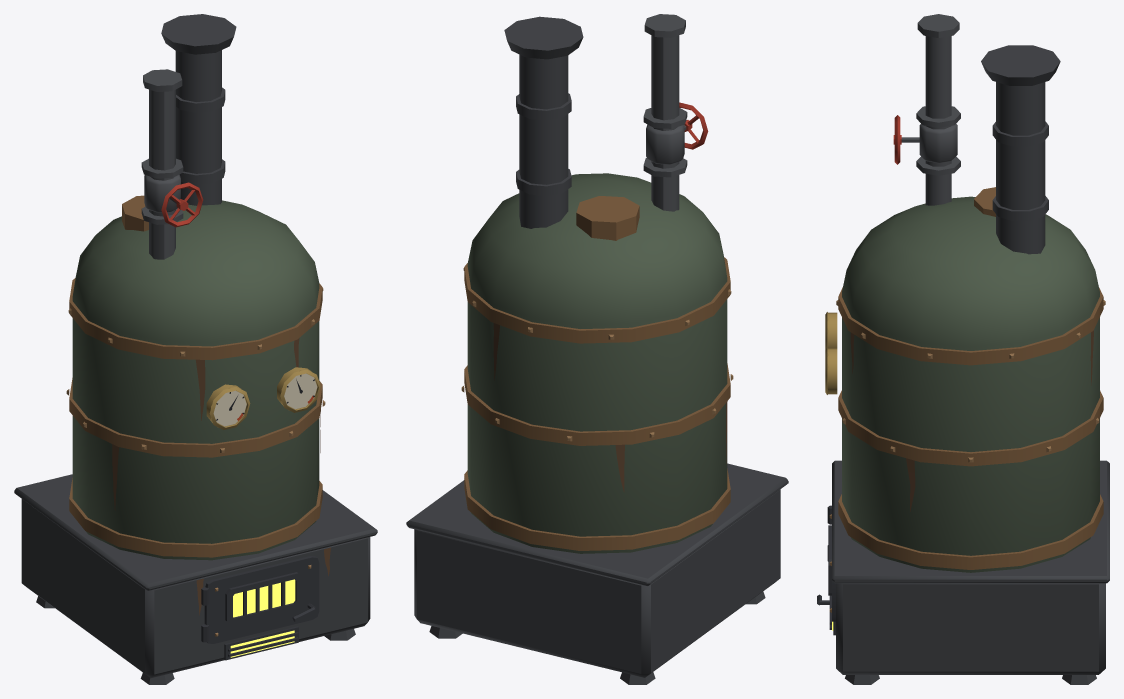
Rendered from Basement_Boiler.fbx.
3 views of the same model, side by side, from view 1: azimuth 30°, elevation 25°; view 2: azimuth 150°, elevation 25°; view 3: azimuth 270°, elevation 25° (orthographic). The views are drawn at different scales.
Parts seen in each view (by area): view 1: Drum, Base, Bands, Flue, Door, Pipes, GaugeFaces, Glow, GaugeBezels, Rust, Valve; view 2: Drum, Base, Bands, Flue, Pipes, Rust; view 3: Drum, Base, Bands, Flue, Pipes, GaugeBezels, Door, Rust.
Part boxes in pixels (box(x1,y1,x2,y2)): Drum: box(72, 200, 319, 560); Base: box(14, 474, 377, 684); Bands: box(69, 195, 322, 557); Flue: box(161, 14, 236, 205); Door: box(201, 556, 319, 660); Pipes: box(141, 69, 183, 259); GaugeFaces: box(213, 373, 317, 426); Glow: box(230, 579, 295, 657); GaugeBezels: box(206, 367, 320, 429); Rust: box(112, 338, 330, 615); Valve: box(161, 182, 203, 227); Drum: box(467, 173, 727, 553); Base: box(406, 463, 788, 684); Bands: box(464, 196, 730, 550); Flue: box(504, 16, 583, 228); Pipes: box(643, 14, 687, 211); Rust: box(493, 323, 727, 492); Drum: box(842, 196, 1099, 572); Base: box(832, 460, 1109, 684); Bands: box(838, 187, 1103, 569); Flue: box(981, 45, 1060, 254); Pipes: box(901, 14, 960, 205); GaugeBezels: box(825, 312, 837, 394); Door: box(817, 505, 835, 635); Rust: box(850, 330, 1093, 511).
Size of the model in its own units: 474 by 1100 by 499.
